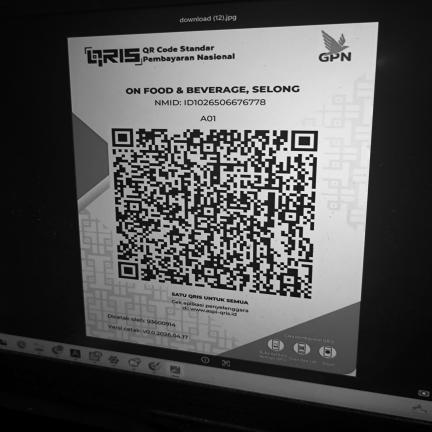Qris-Positioning: (68, 22, 378, 374)
